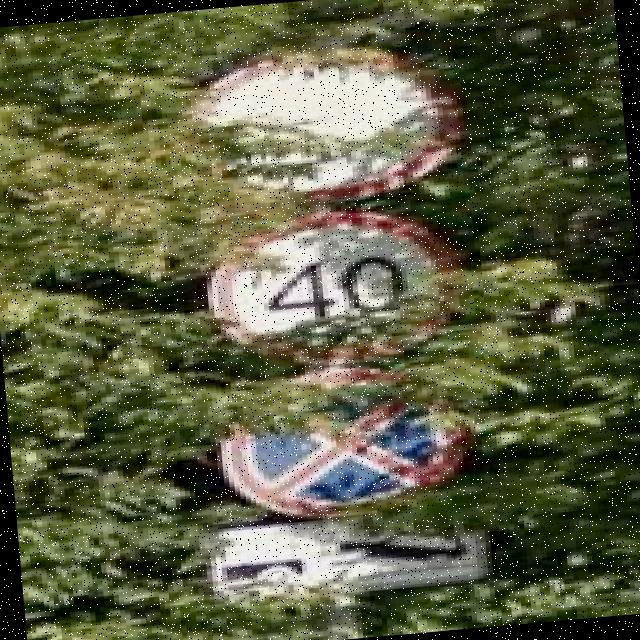Ograniczenie predkosci do 40: (196, 198, 468, 378)
Zakaz ruchu w obu kierunkach: (172, 34, 460, 214)
Zakaz zatrzymywania sie: (214, 358, 472, 526)
